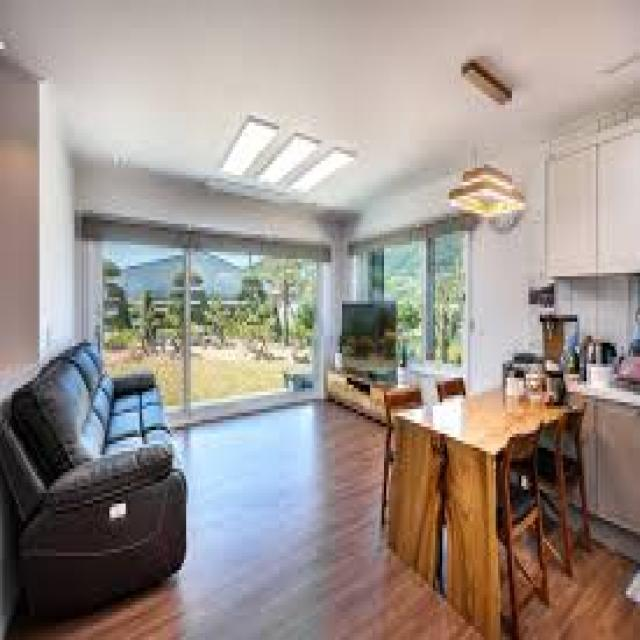Chair: (490, 424, 551, 621), (549, 396, 591, 577)
Sofa: (4, 335, 188, 609)
Table: (399, 376, 586, 626)
tv: (337, 298, 399, 374)
window: (83, 225, 319, 387), (360, 236, 463, 336)
